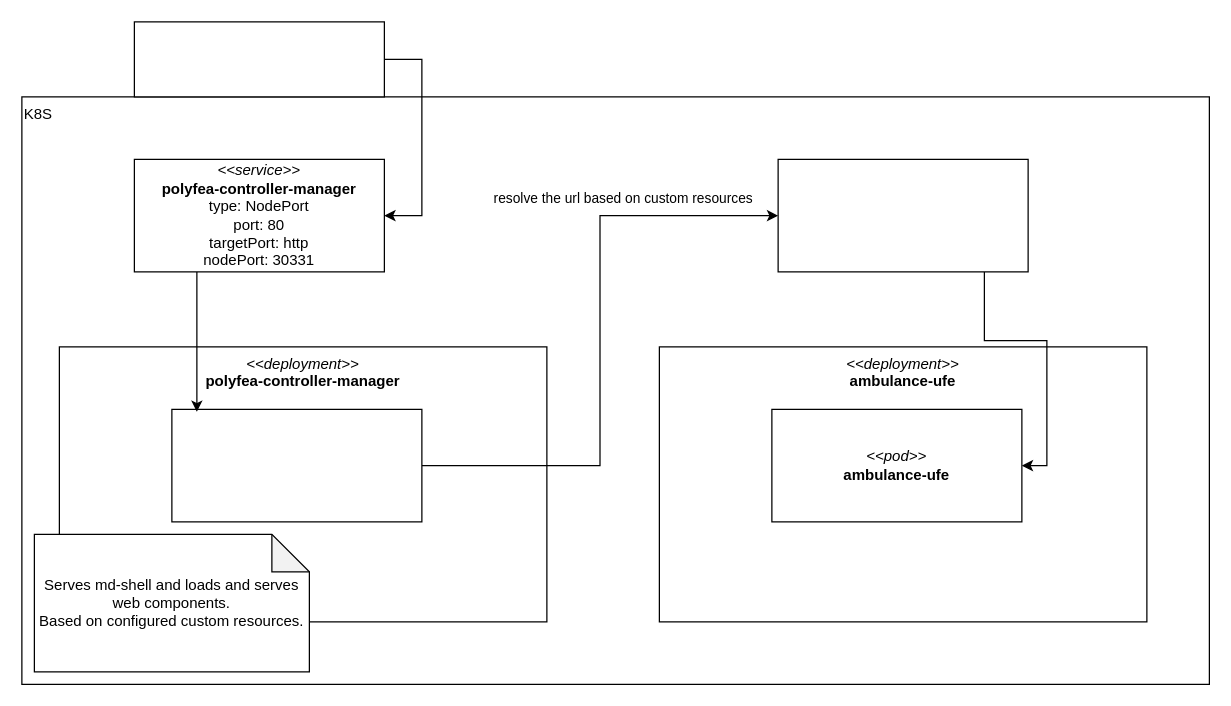
This 1231x706 diagram has some shape labels left out. Each missing label, with the centre of its shape:
"<<pod>> polyfea-controller" belongs at pixel 296 465.
"<<service>> ambulance-ufe type: ClusterIp port: 80 targetPort: http" belongs at pixel 902 215.
"nodePort: 30331" belongs at pixel 258 59.
